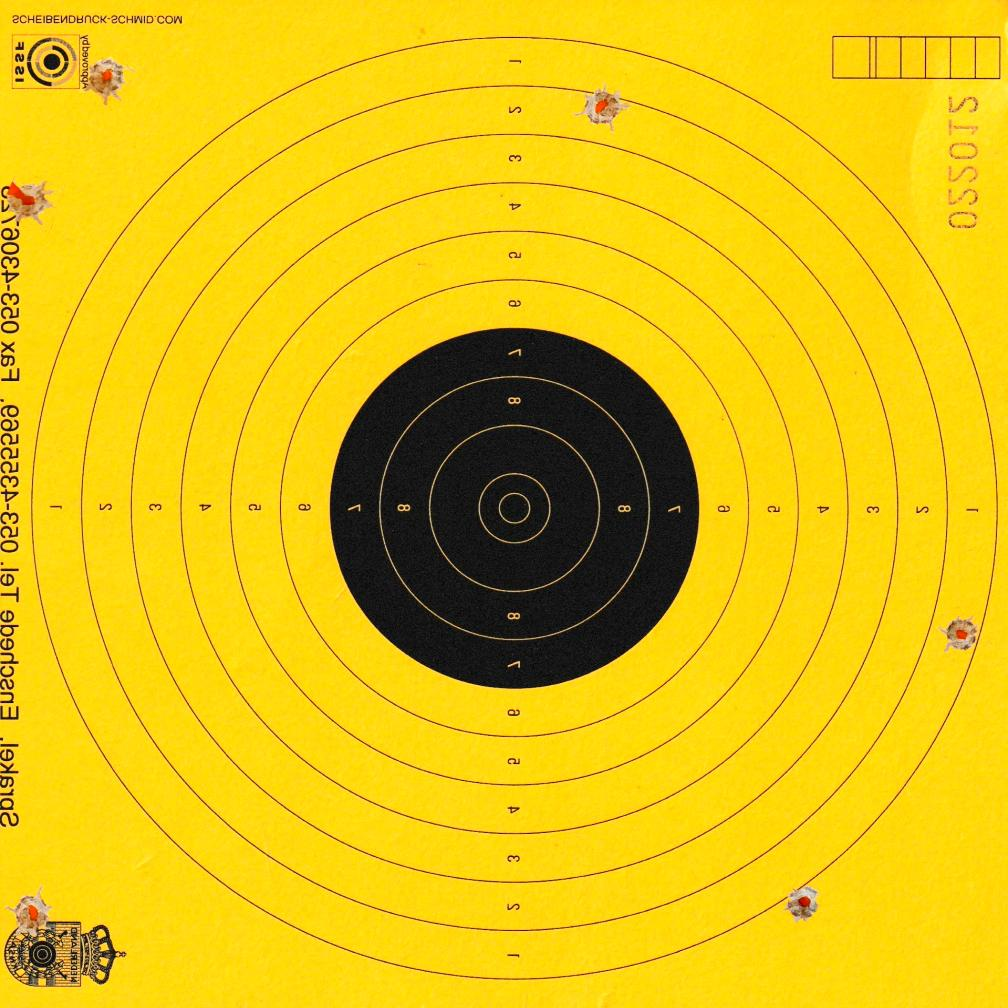0: (5, 886, 56, 940), (79, 56, 133, 104), (5, 178, 55, 226)
1: (935, 613, 980, 654), (782, 884, 820, 926)
2: (572, 83, 631, 133)
Target: (26, 30, 1001, 982)
black_contour: (327, 329, 699, 689)
